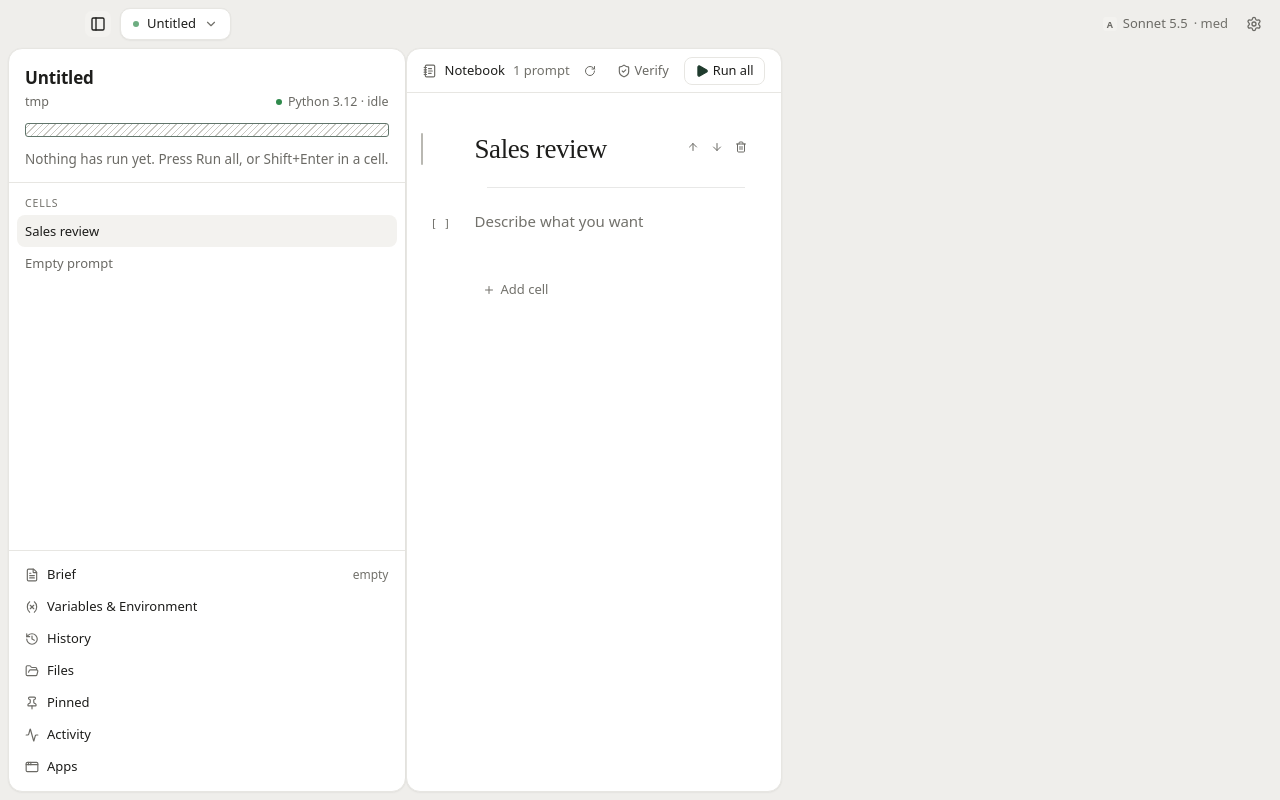
Test: App › deletes a cell with D D and brings it back with Undo
Click the heading "Sales review" at (541, 149), box [474, 134, 607, 164]
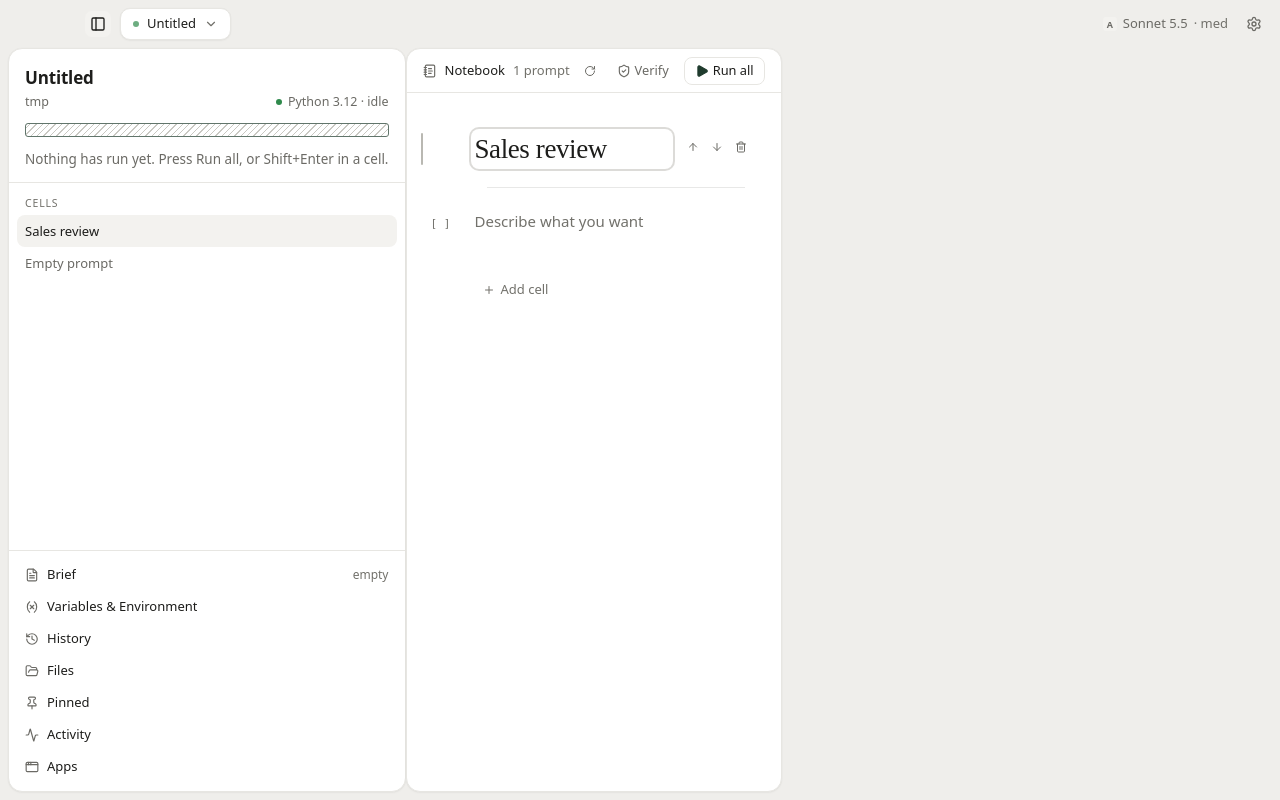
Type keys "dd"
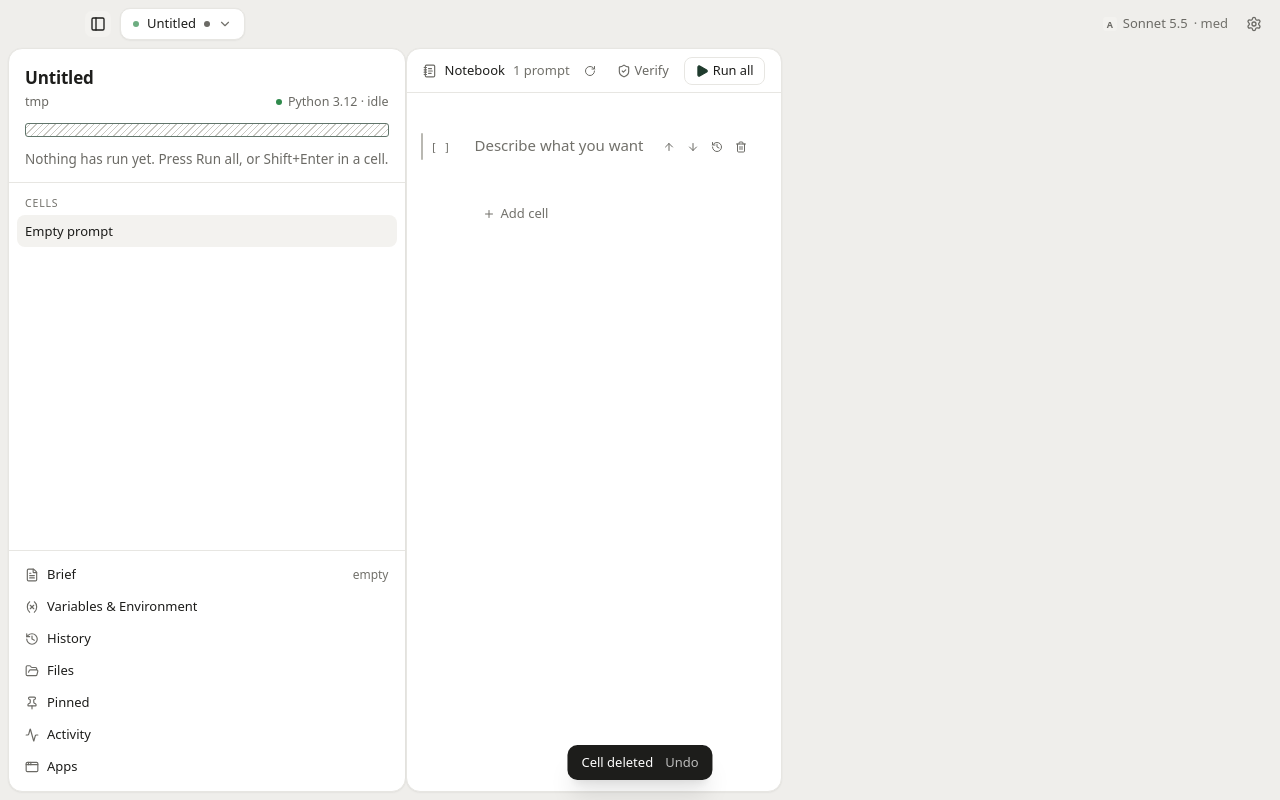
expect the button "Sales review" is gone: met
Click the button "Undo" at (682, 762), box [665, 752, 698, 772]
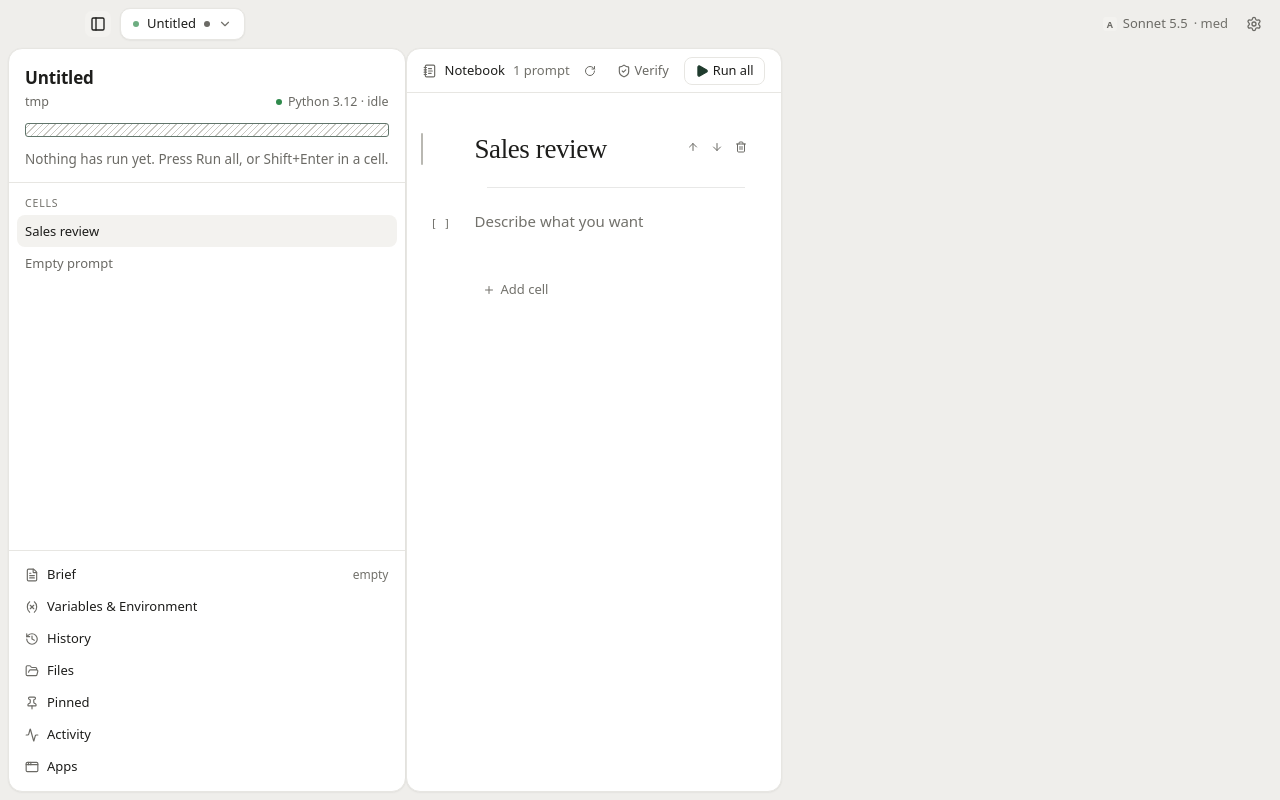
expect the heading "Sales review" is shown: met, box [474, 134, 607, 164]
